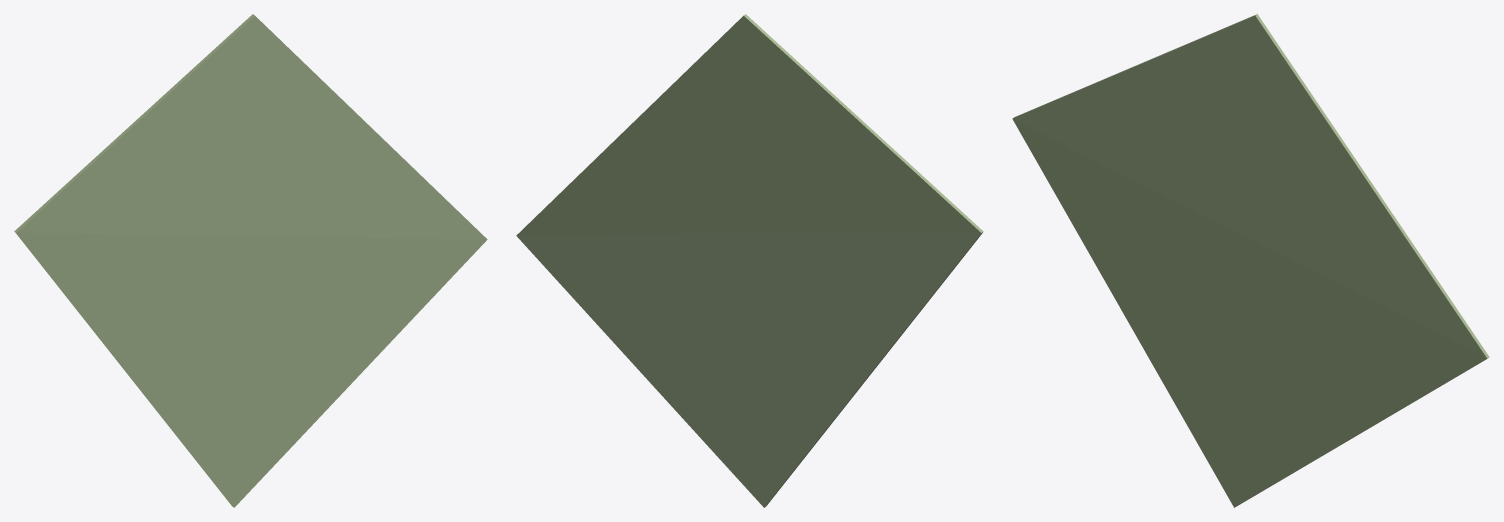
3 renders of one model, left to right at view 1: azimuth 30°, elevation 25°; view 2: azimuth 150°, elevation 25°; view 3: azimuth 330°, elevation 25°, orthographic. The views are drawn at different scales.
Visible parts, largest first — view 1: urn:npust:smart-agriculture-management-platform:face:greenho; view 2: urn:npust:smart-agriculture-management-platform:face:greenho; view 3: urn:npust:smart-agriculture-management-platform:face:greenho.
Part boxes in pixels (x1=…): urn:npust:smart-agriculture-management-platform:face:greenho: x1=14, y1=14, x2=487, y2=507; urn:npust:smart-agriculture-management-platform:face:greenho: x1=516, y1=14, x2=983, y2=507; urn:npust:smart-agriculture-management-platform:face:greenho: x1=1012, y1=14, x2=1489, y2=507.
Size of the model in its own units: 30.93 by 30.76 by 0.573.
